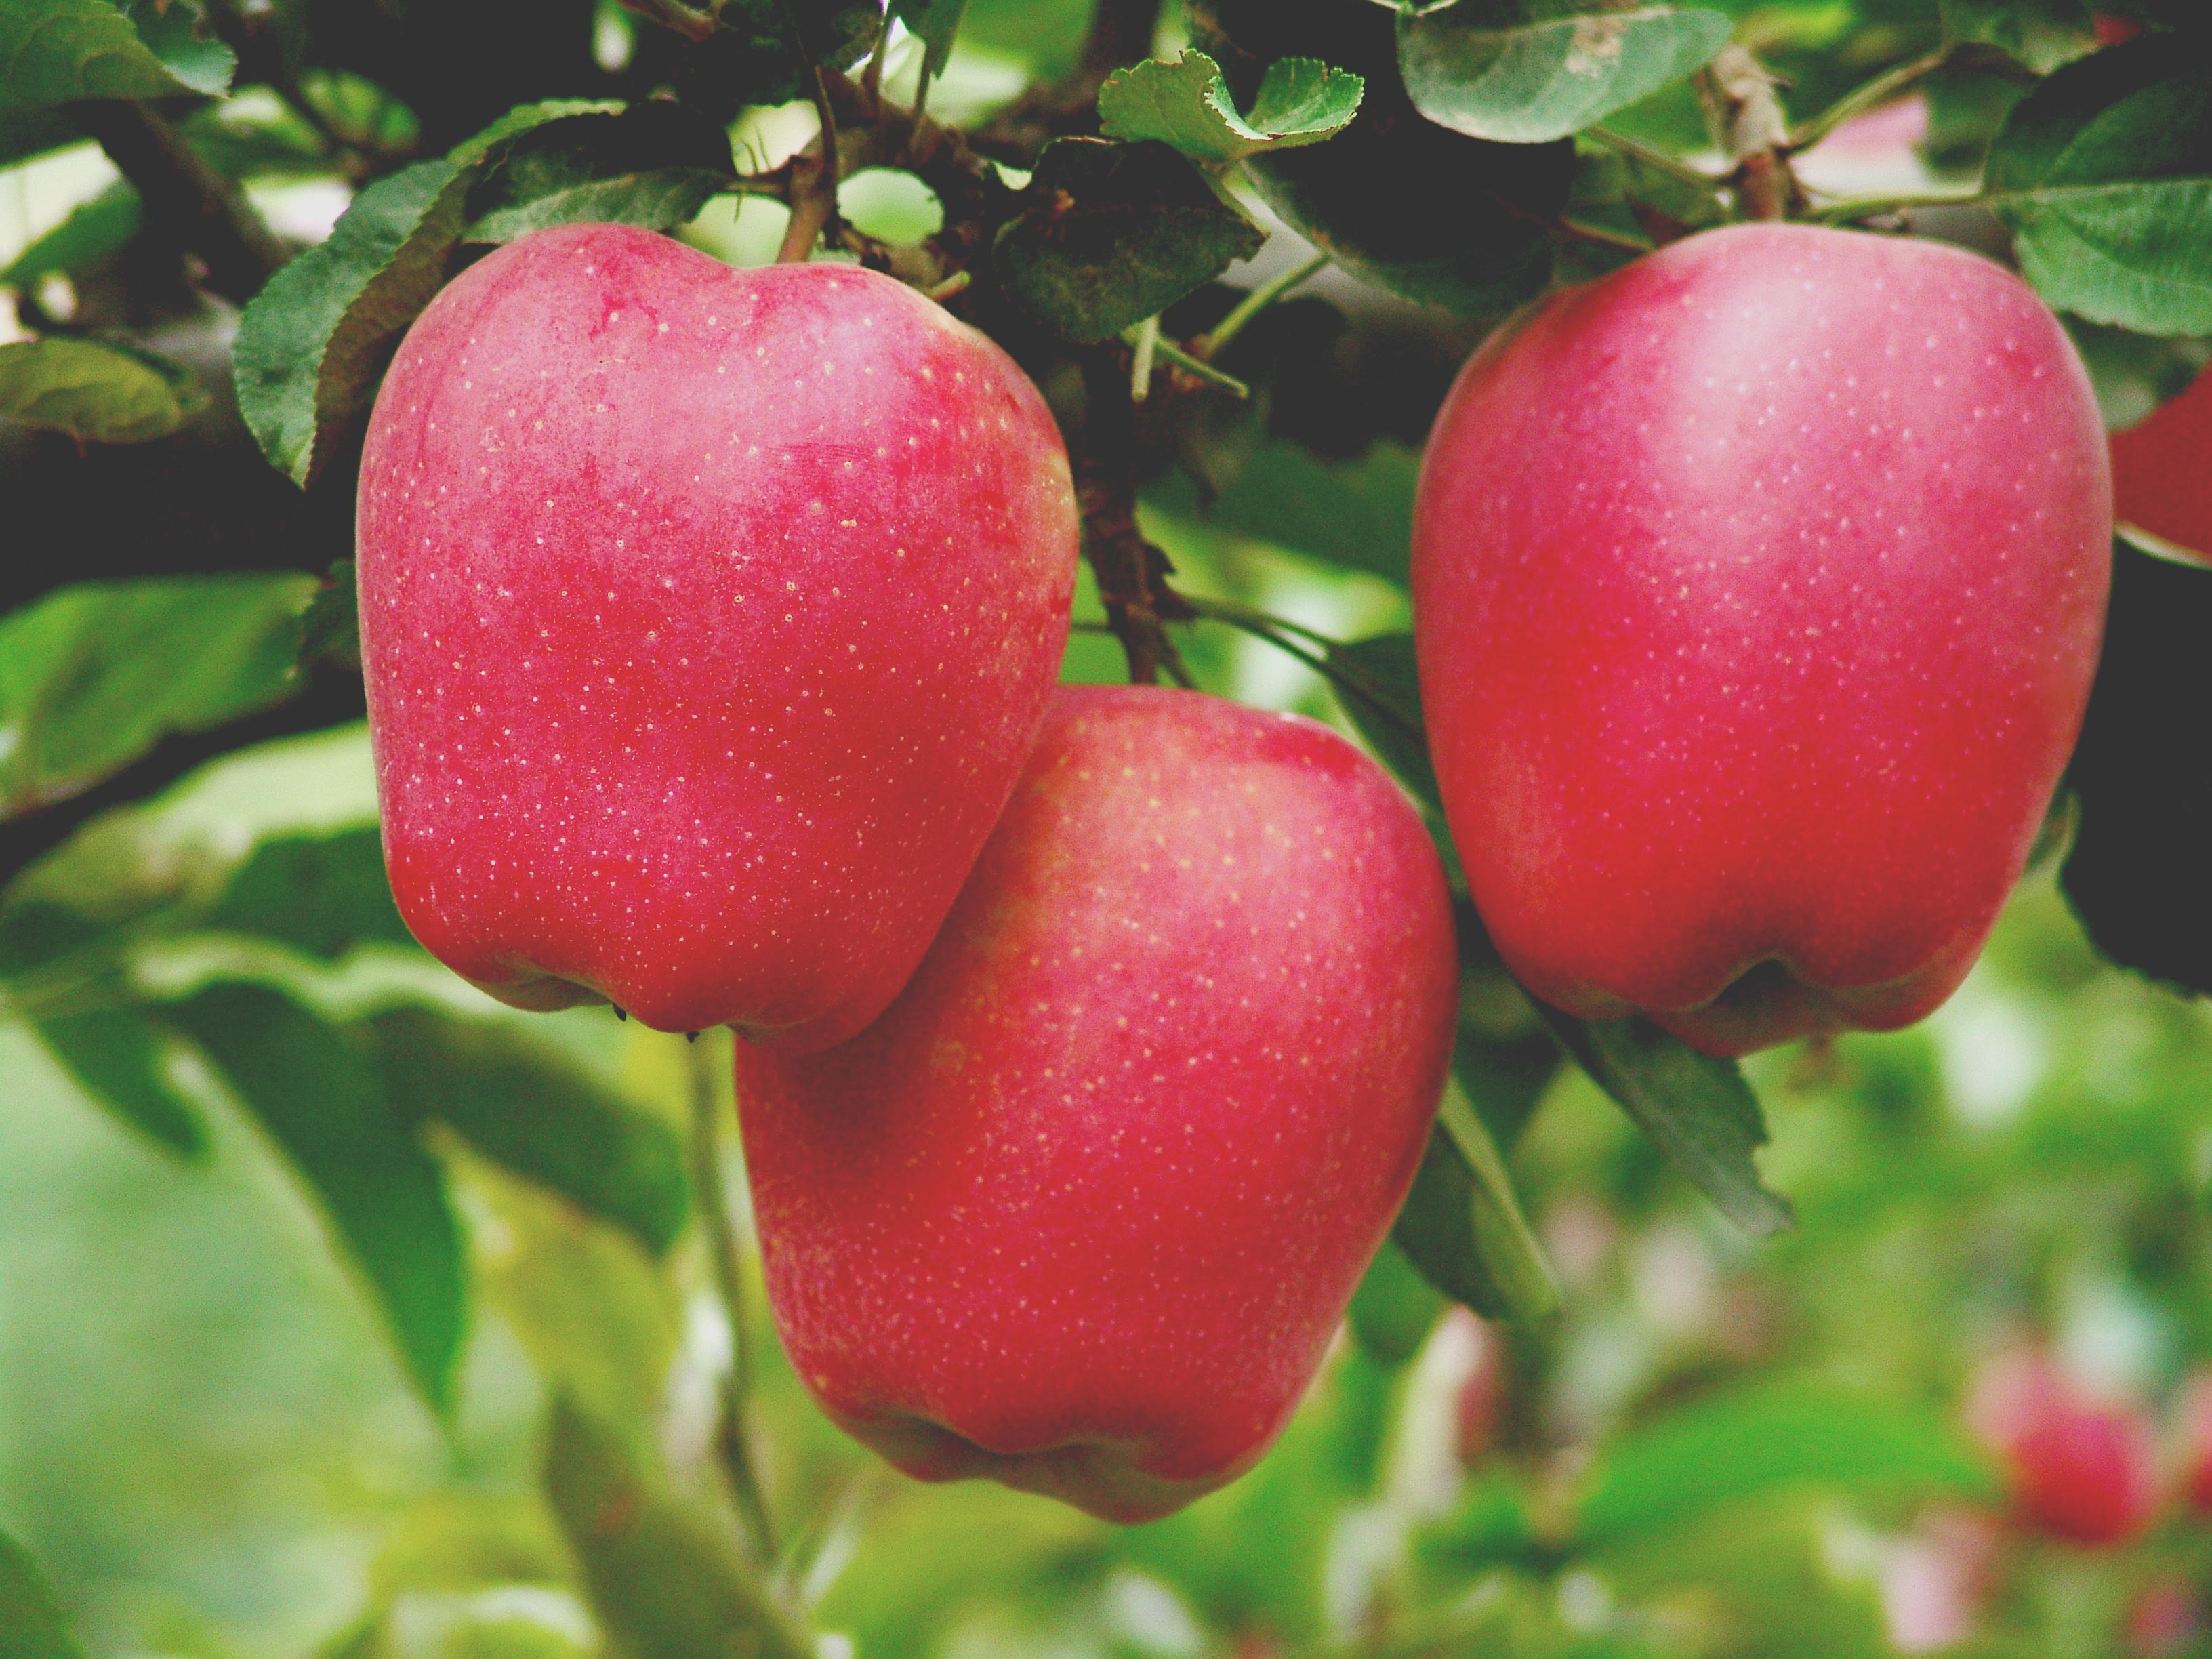apple: (1395, 223, 2109, 1053), (359, 223, 1082, 1037), (737, 692, 1467, 1492)
